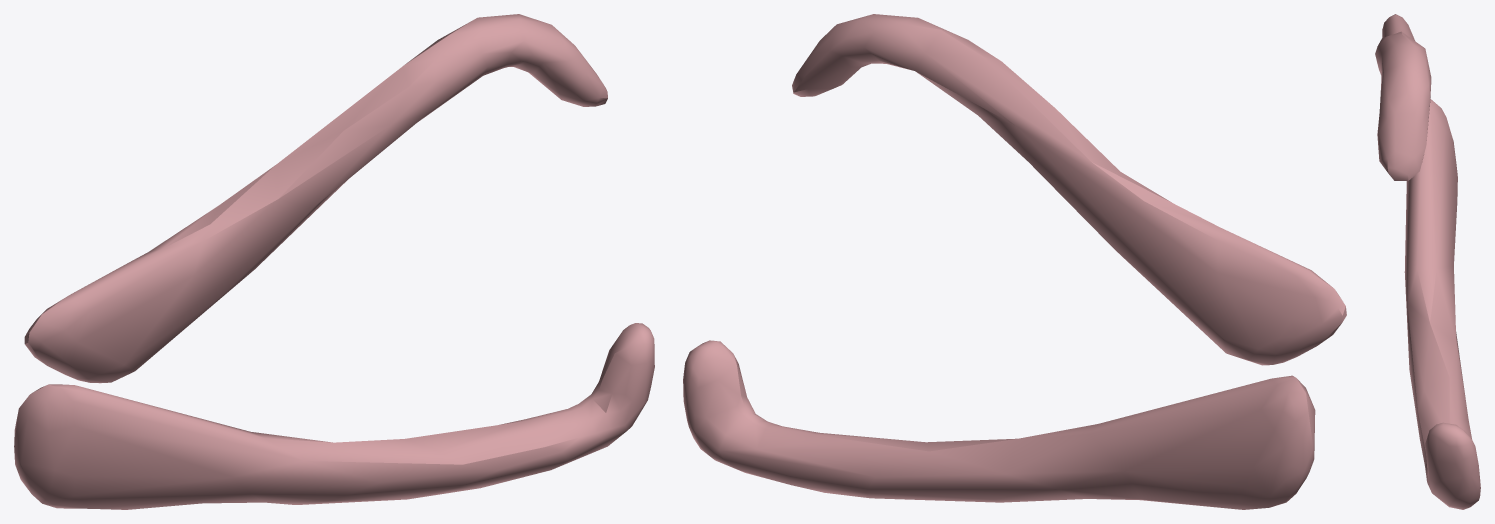
Rendered from fma59583_fj1298.glb.
3 views of the same model, side by side, from view 1: azimuth 30°, elevation 25°; view 2: azimuth 150°, elevation 25°; view 3: azimuth 270°, elevation 25° (orthographic). The views are drawn at different scales.
Parts seen in each view (by area): view 1: FMA59583_FJ1298; view 2: FMA59583_FJ1298; view 3: FMA59583_FJ1298.
Part boxes in pixels (x1,y1,x2,y2): FMA59583_FJ1298: (14,14,654,509); FMA59583_FJ1298: (683,14,1346,509); FMA59583_FJ1298: (1375,14,1480,509).
Bounding box in the file's own units: 0.00581 × 0.00413 × 0.000972.
